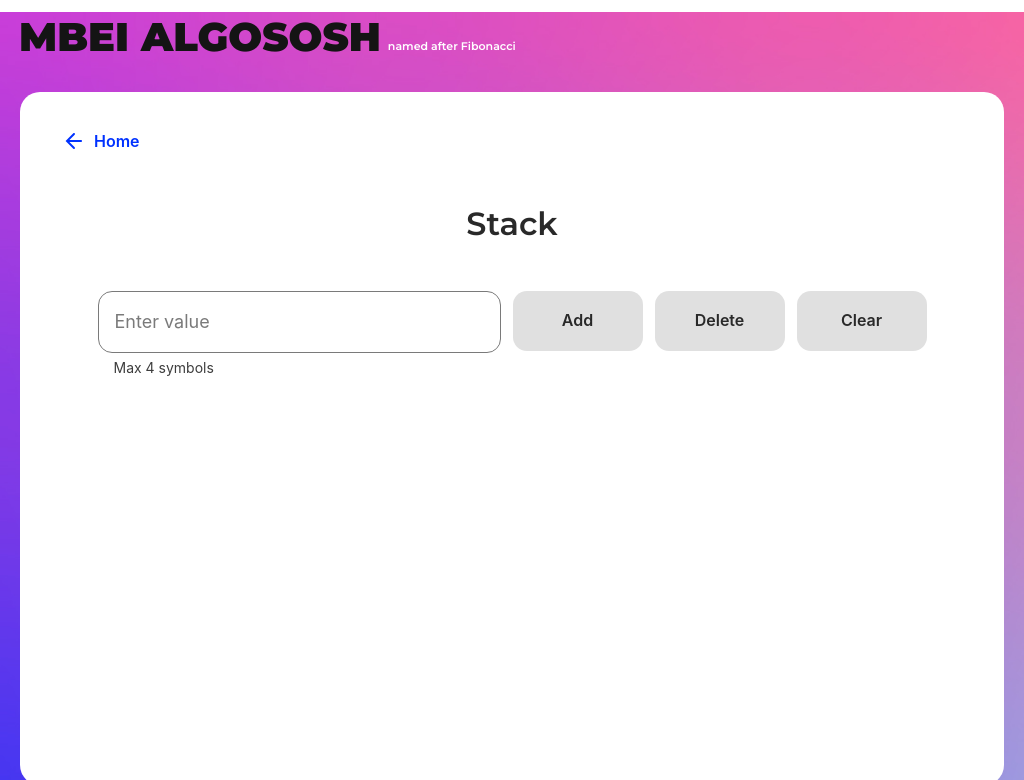
Test case: Страница Стек отображается корректно › Элементы верно добавляются в стек
Type "1" into the field with placeholder "Enter value" at (300, 322), box [98,291,501,353]
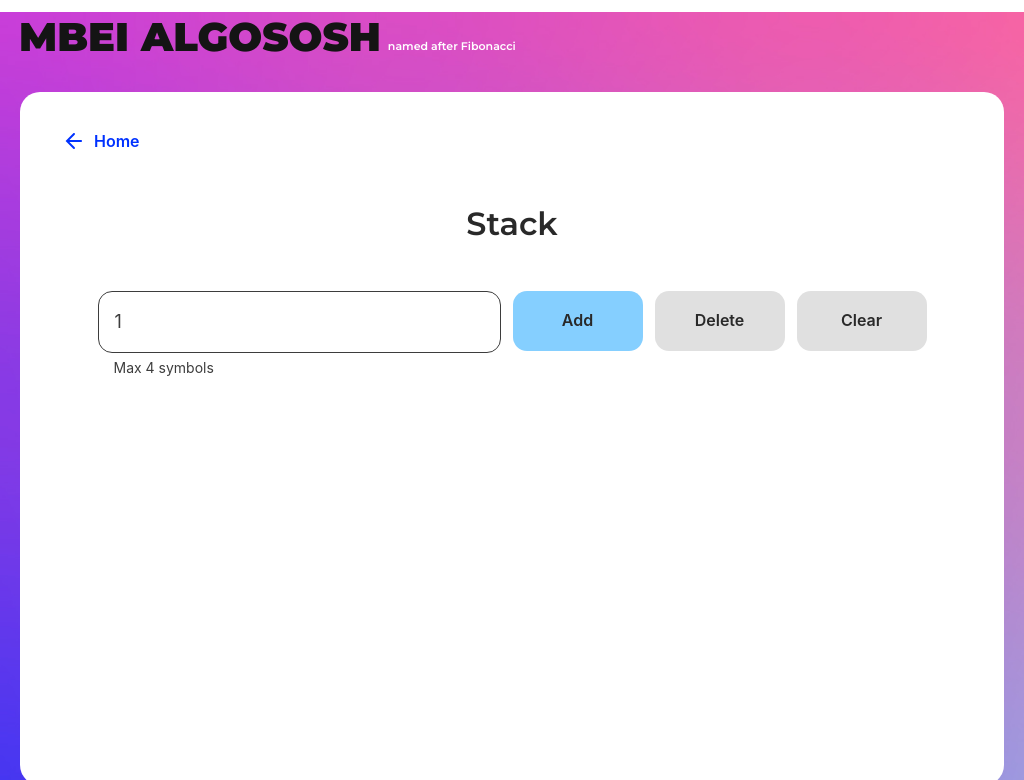
Click the button with test id "addbutton" at (578, 321), box [513,291,643,351]
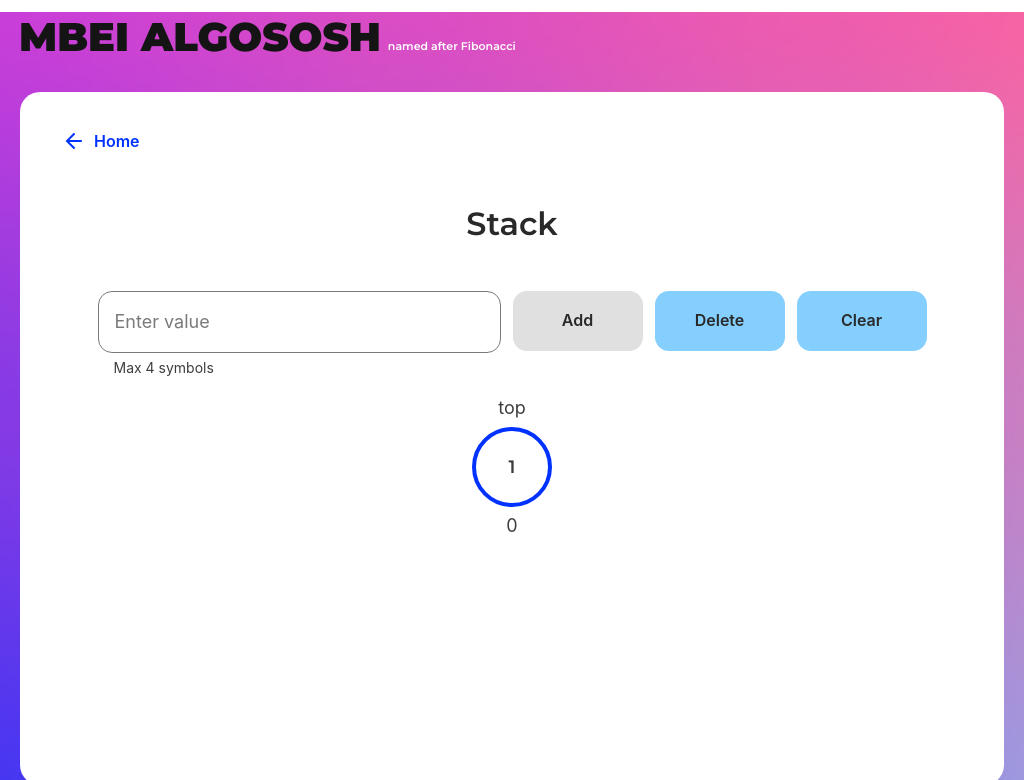
expect the number of elements with test id "circle" is 1: met, box [472,427,552,507]
expect the text with test id "circle" reads "1": met, box [509,456,516,478]
expect the text with test id "head" reads "top": met, box [498,397,526,418]
Type "2" into the field with placeholder "Enter value" at (300, 322), box [98,291,501,353]
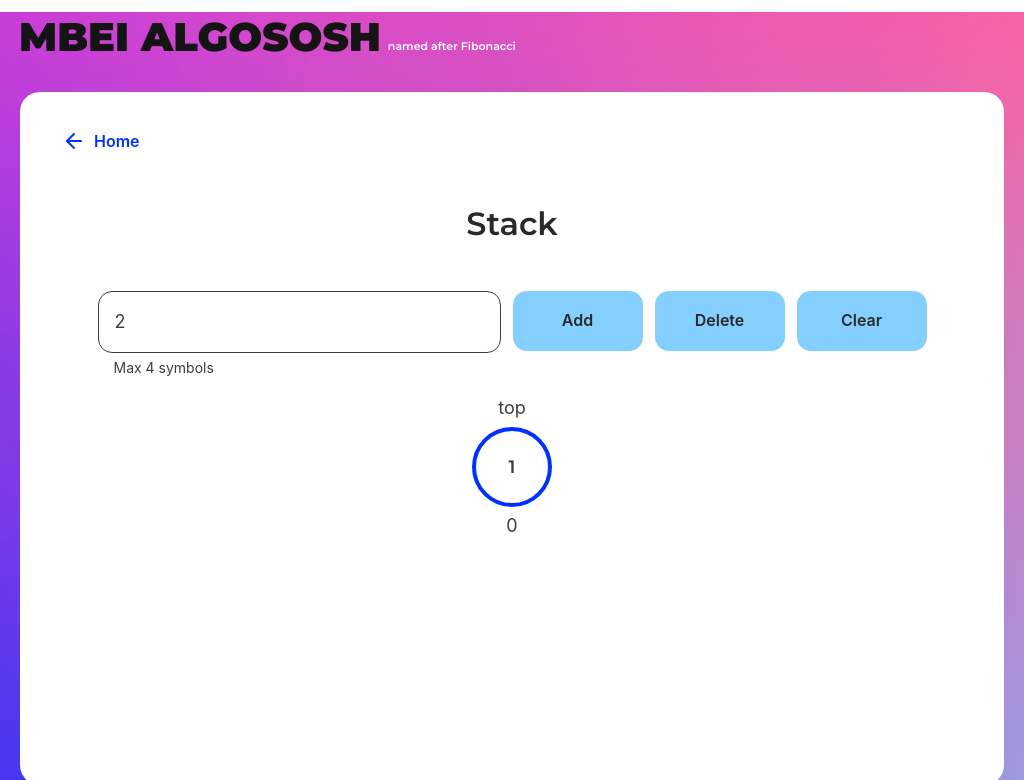
Click the button with test id "addbutton" at (578, 321), box [513,291,643,351]
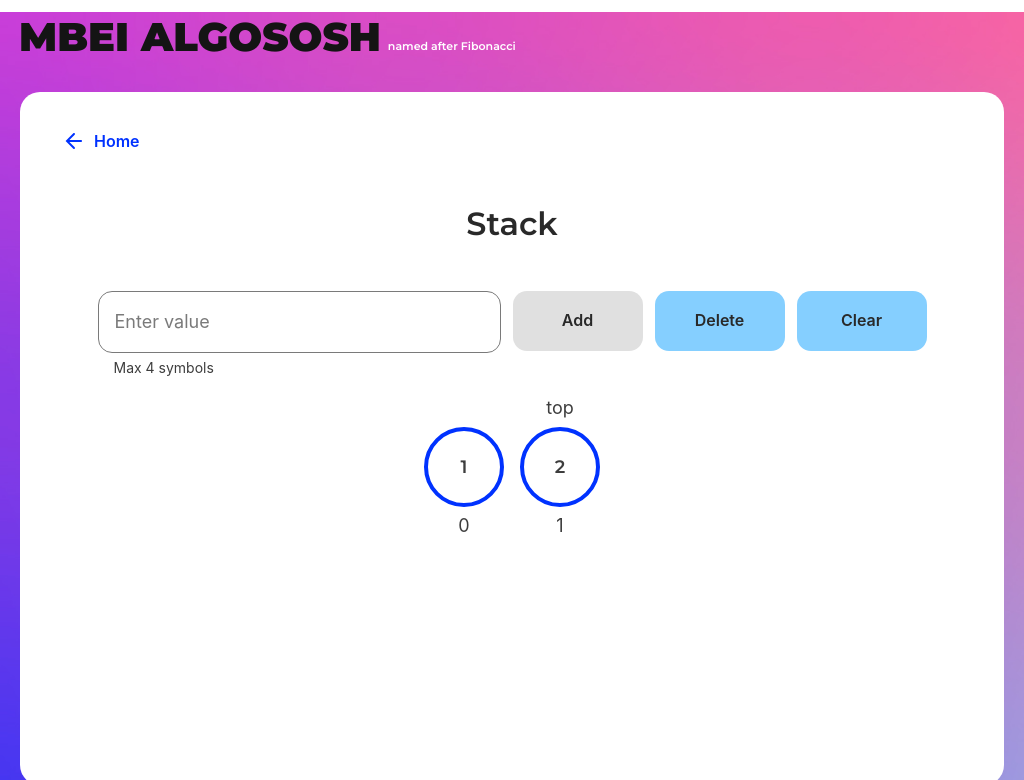
expect the text with test id "index" reads "0": met, box [458,515,469,536]
expect the number of elements with test id "circle" is 2: met, box [424,427,504,507]; [520,427,600,507]
expect the text with test id "index" below "top" reads "1": met, box [556,515,563,536]
Type "3" into the field with placeholder "Enter value" at (300, 322), box [98,291,501,353]
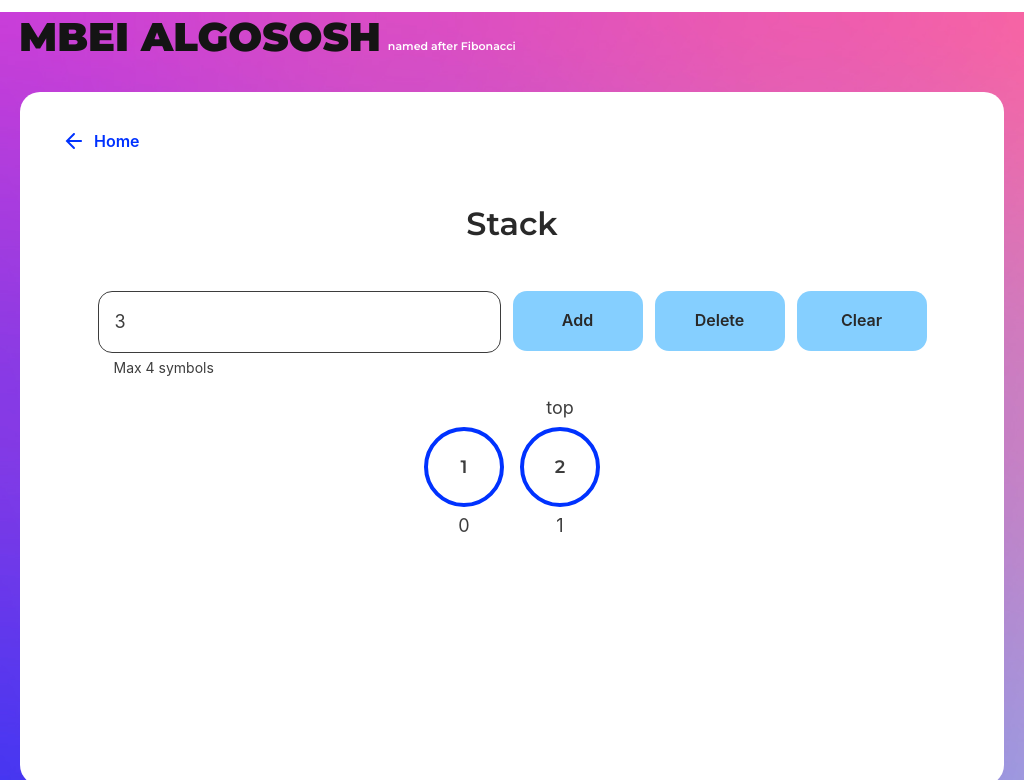
Click the button with test id "addbutton" at (578, 321), box [513,291,643,351]
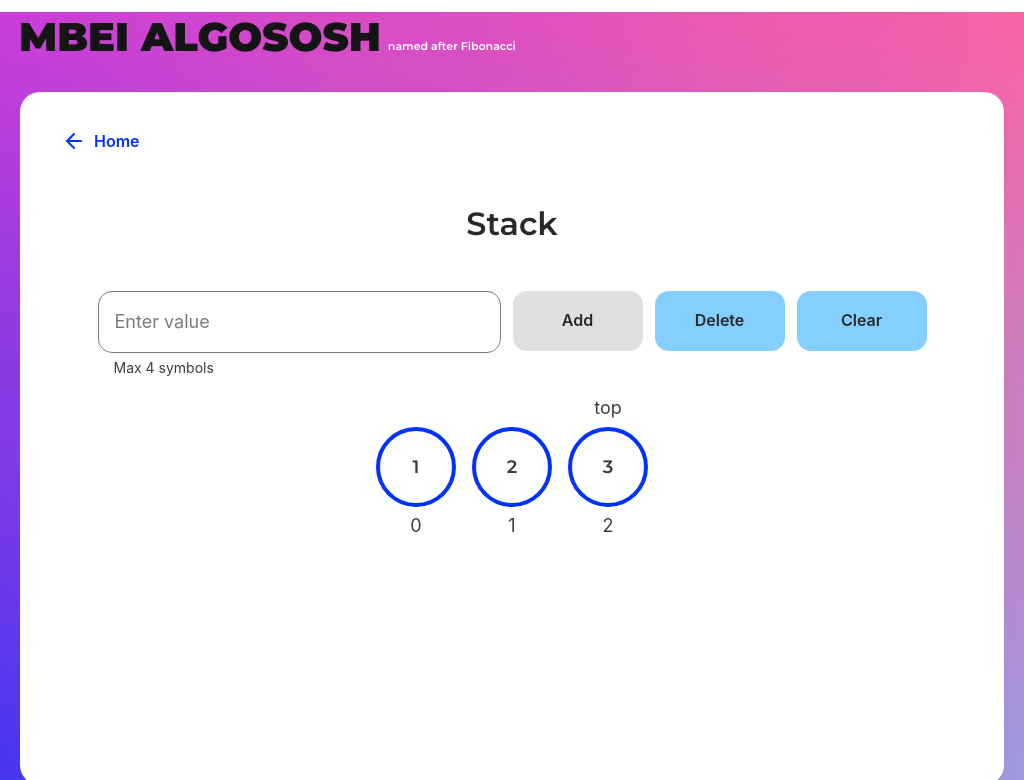
expect the text with test id "index" reads "0": met, box [410,515,421,536]
expect the 2nd text with test id "index" reads "1": met, box [508,515,515,536]
expect the number of elements with test id "circle" is 3: met, box [376,427,456,507]; [472,427,552,507]; [568,427,648,507]
